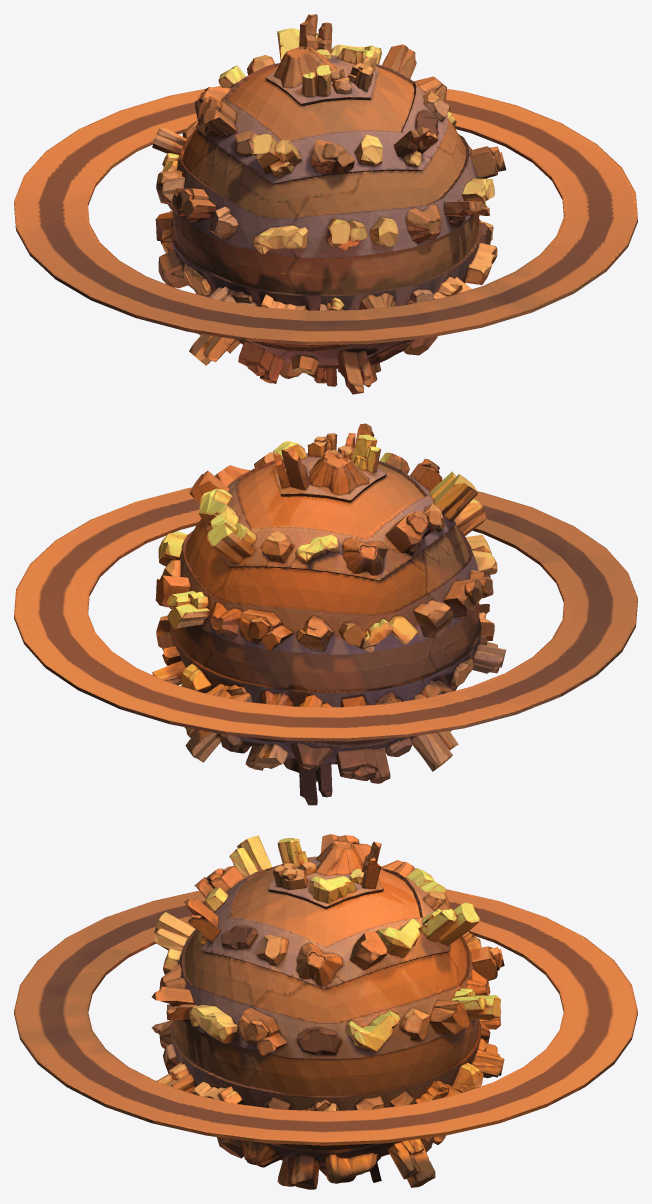
The model's file is jupiter.obj.
The picture shows the model from 3 angles, top to bottom: view 1: azimuth 30°, elevation 25°; view 2: azimuth 150°, elevation 25°; view 3: azimuth 270°, elevation 25°; orthographic projection.
Parts seen in each view (by area): view 1: Cliff_Rock_06; view 2: Cliff_Rock_06; view 3: Cliff_Rock_06.
Boxes of the visible parts, x1,y1,x2,y2 form: Cliff_Rock_06: [14, 14, 637, 394]; Cliff_Rock_06: [14, 423, 637, 805]; Cliff_Rock_06: [14, 834, 637, 1189].
Size of the model in its own units: 4.06 by 2.52 by 4.06.
Materials: 1 (1 with a texture image).
